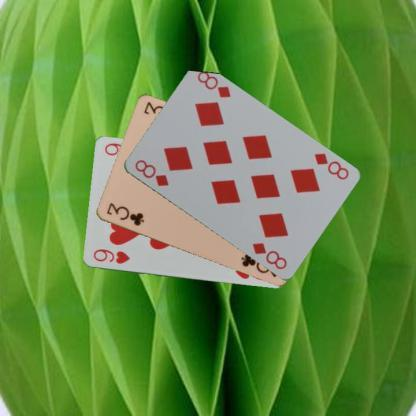3c: (104, 200, 146, 228)
8d: (310, 151, 350, 182), (132, 156, 170, 187)
9h: (90, 246, 131, 265)
